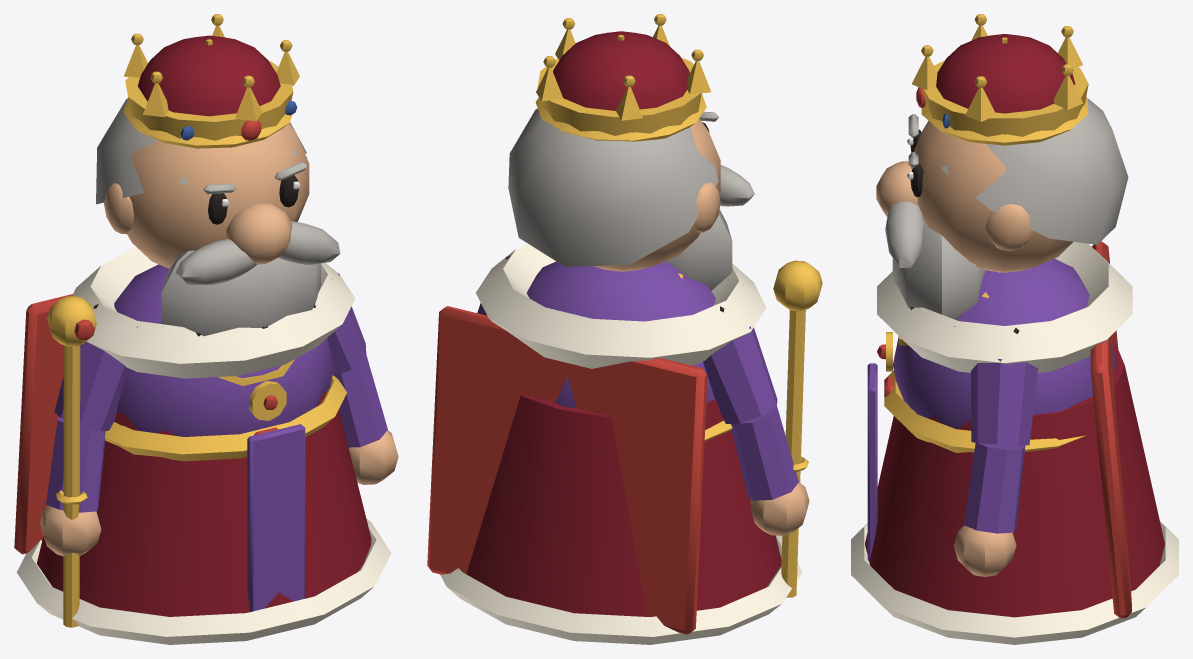
Rendered from CH_King.fbx.
The picture shows the model from 3 angles, left to right: view 1: azimuth 30°, elevation 25°; view 2: azimuth 150°, elevation 25°; view 3: azimuth 270°, elevation 25°; orthographic projection.
Parts seen in each view (by area): view 1: CH_King; view 2: CH_King; view 3: CH_King.
Boxes of the visible parts, x1,y1,x2,y2 form: CH_King: (14, 14, 398, 644); CH_King: (427, 14, 822, 644); CH_King: (851, 14, 1178, 644).
Bounding box in the file's own units: 0.7992 × 1.16 × 0.6464.
